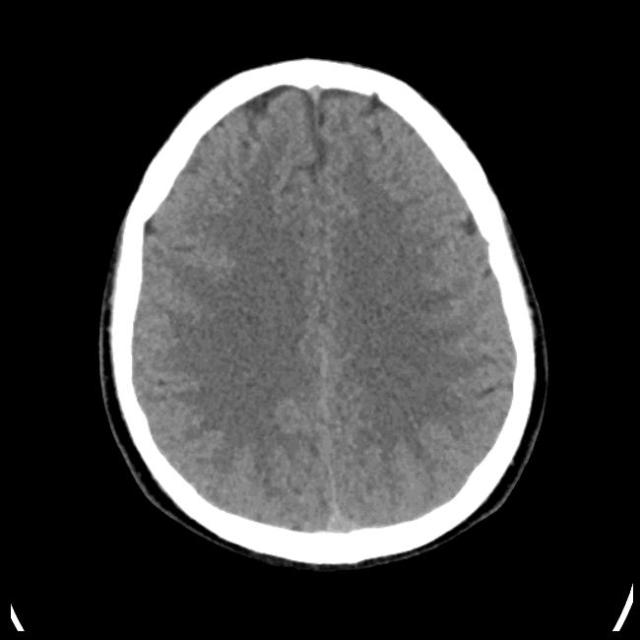lesion: (101, 59, 544, 565)
